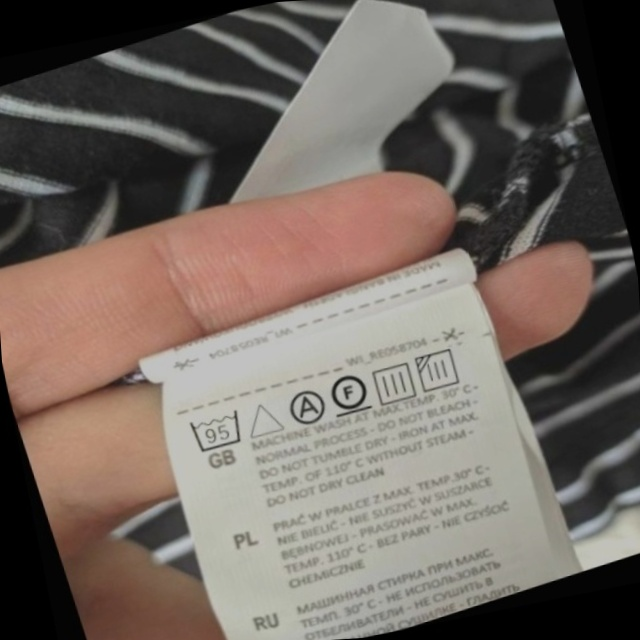95C: (183, 402, 252, 459)
bleach: (239, 392, 287, 445)
drip_dry: (366, 355, 423, 411)
drip_dry_in_shade: (410, 341, 469, 399)
dry_clean: (281, 383, 331, 432)
dry_clean_petrol_only: (323, 364, 376, 422)
